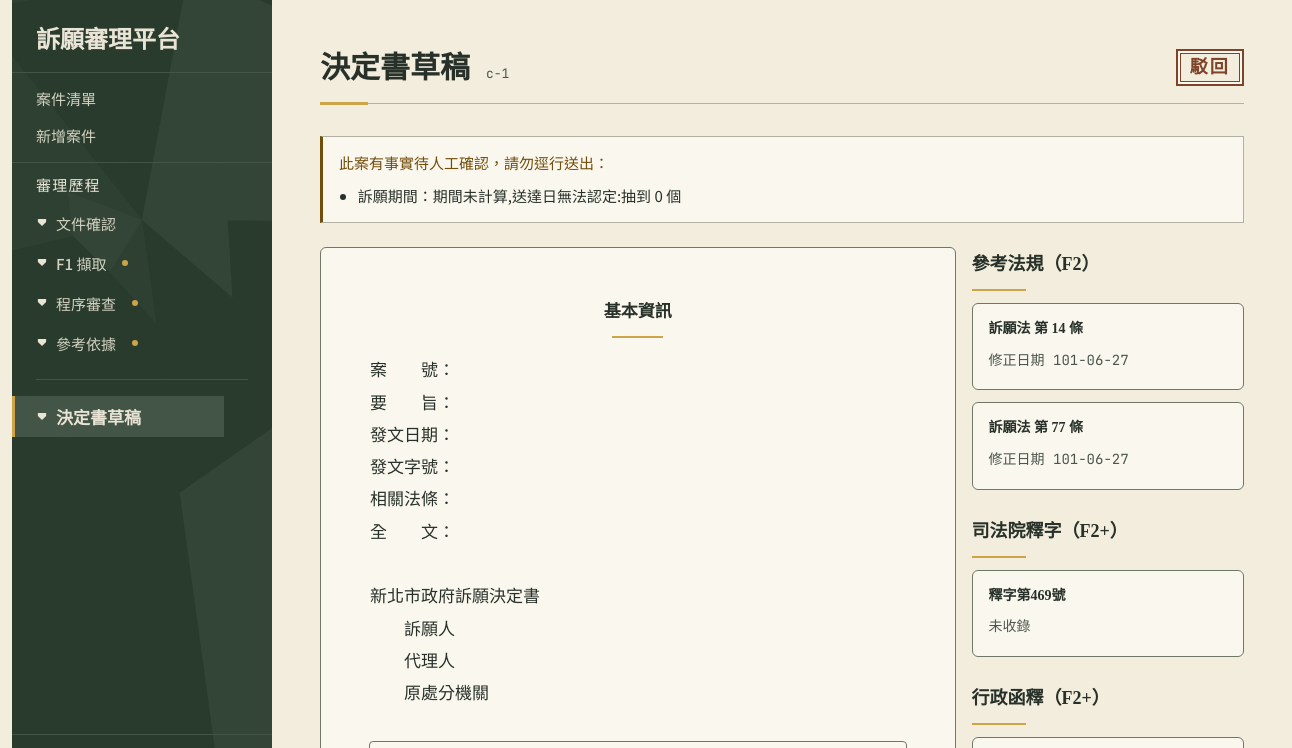
頁首標題 › 切換左欄,標題跟著換成該項的名字
The width and height of the screenshot is (1292, 748).
Expected: the heading "決定書草稿" is shown, [320, 48, 470, 87]
Click the button "程序審查" at (118, 303), box [12, 283, 224, 323]
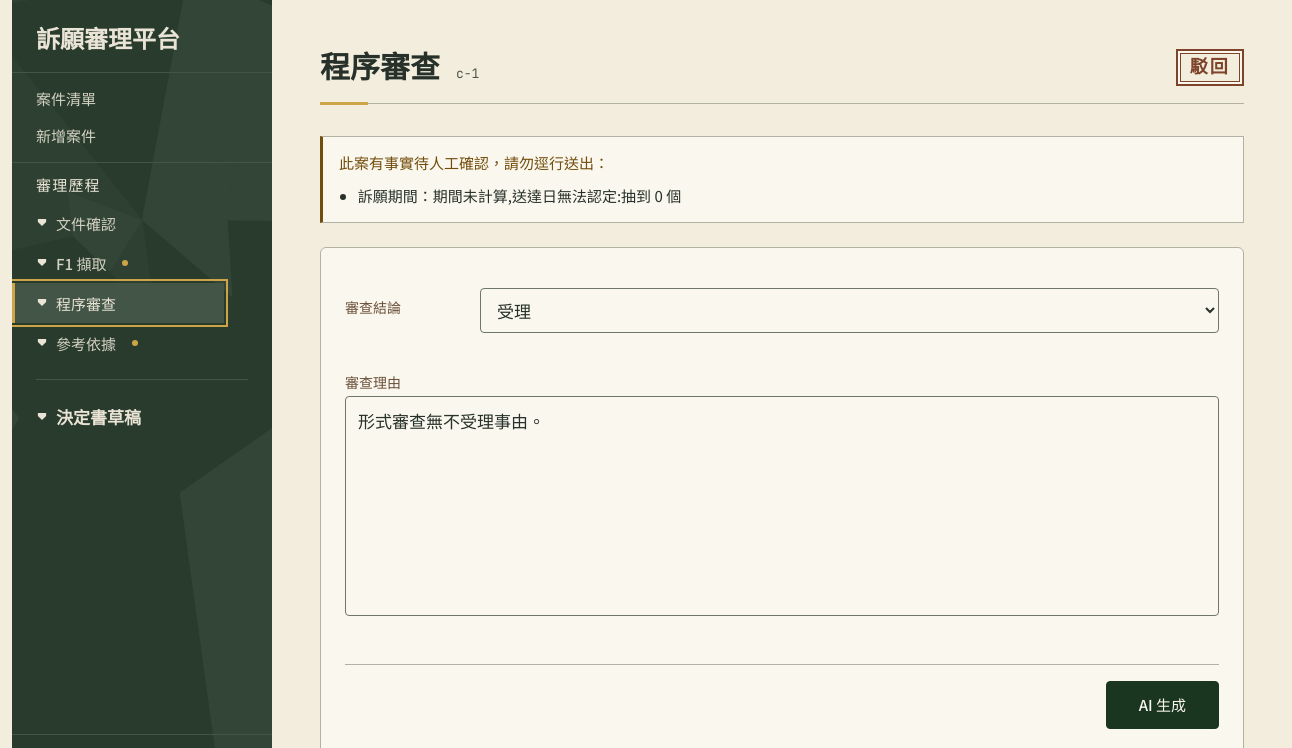
Result: the heading "程序審查" is shown at [320, 48, 440, 87]
Click the button "文件確認" at (118, 223), box [12, 203, 224, 243]
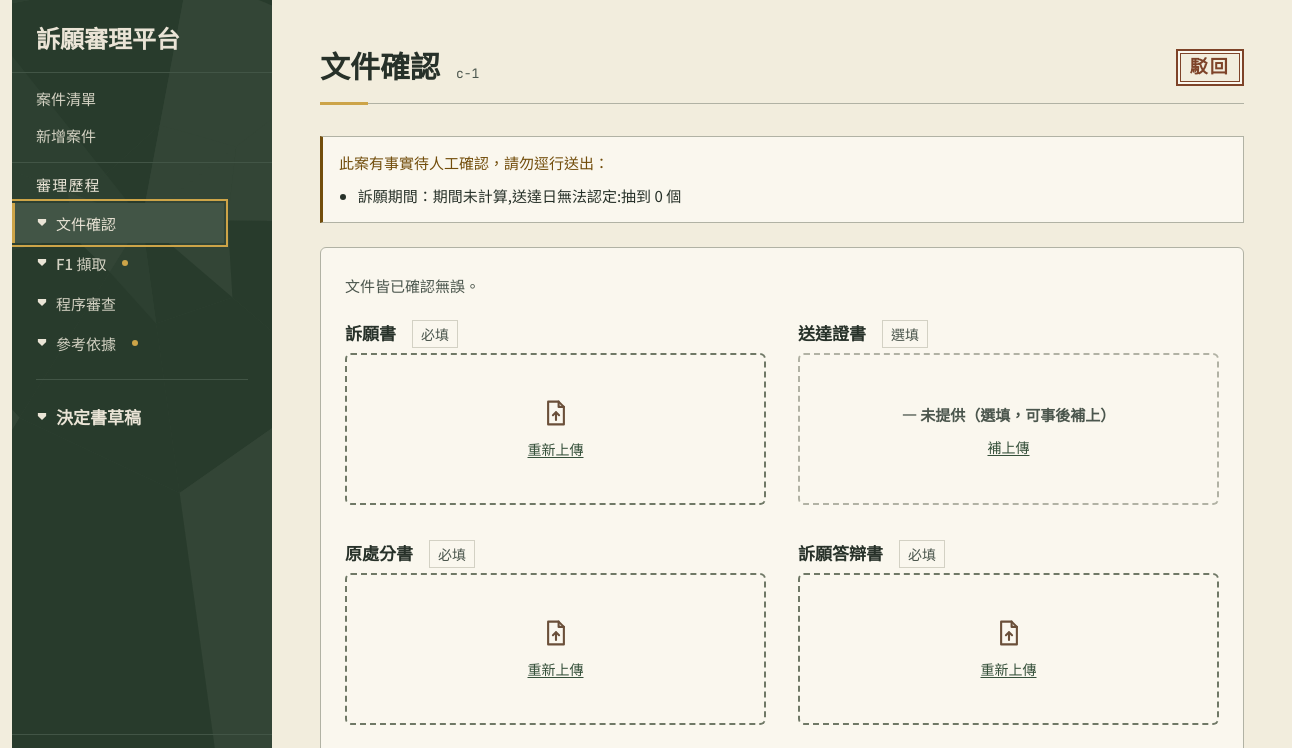
Result: the heading "文件確認" is shown at [320, 48, 440, 87]
